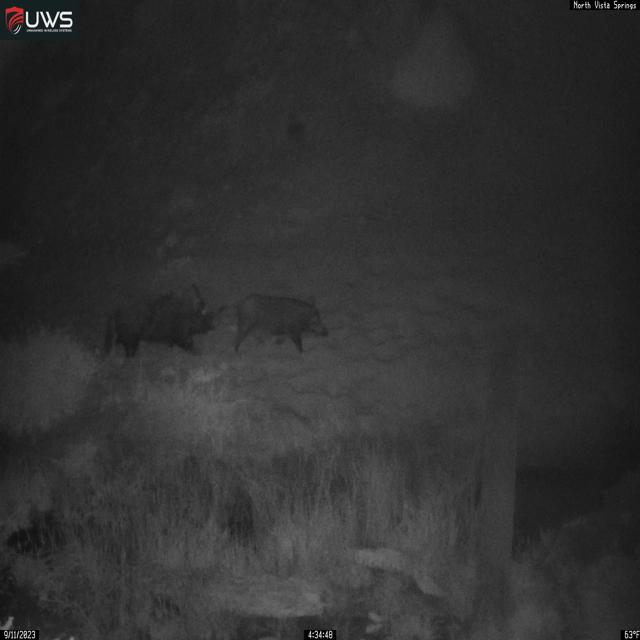pig: (103, 283, 216, 360)
